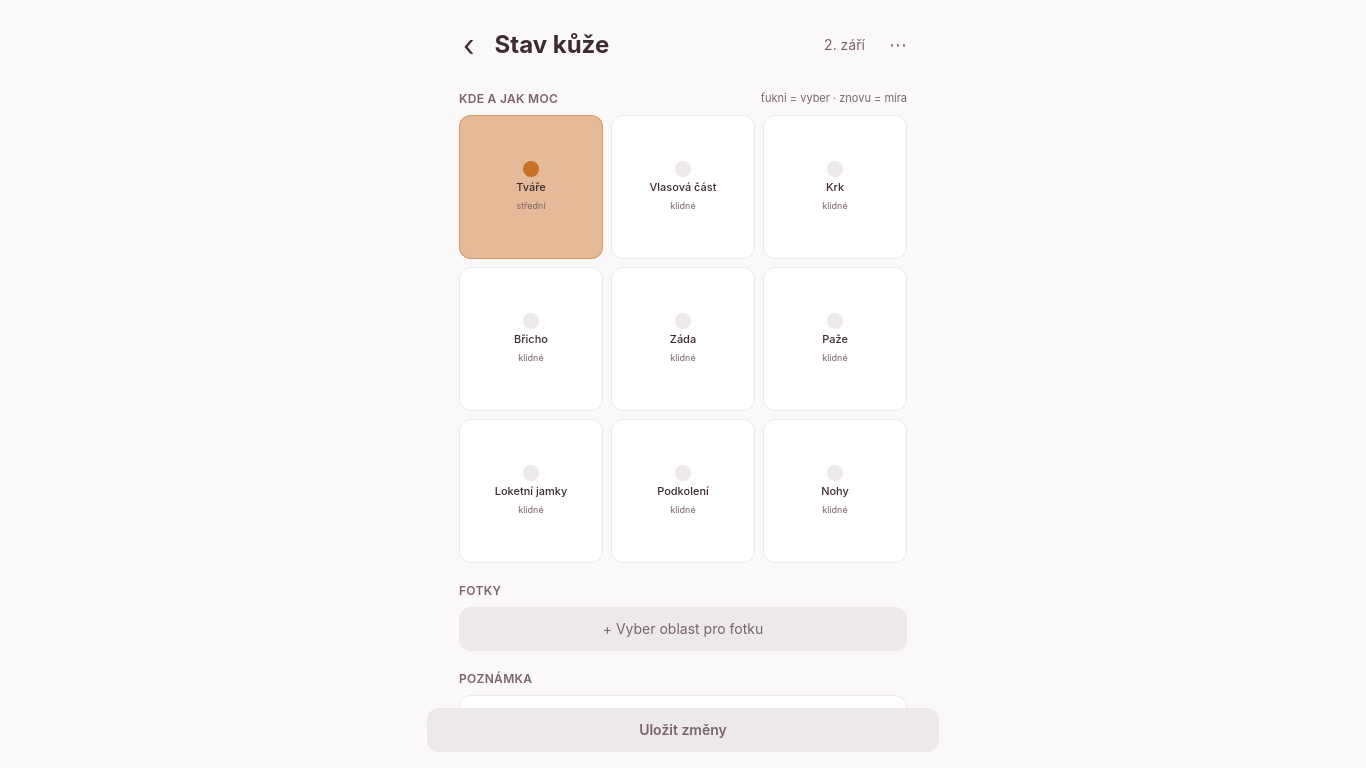
Test: skin/+page.svelte — region grid › cancelling the ConfirmSheet closes it with no navigation and no side effect
The image size is (1366, 768).
Check: the text box showing "itchy" is shown, box [459,694,907,762]
Click the button with test id "skin-overflow" at (898, 45), box [881,36,915,54]
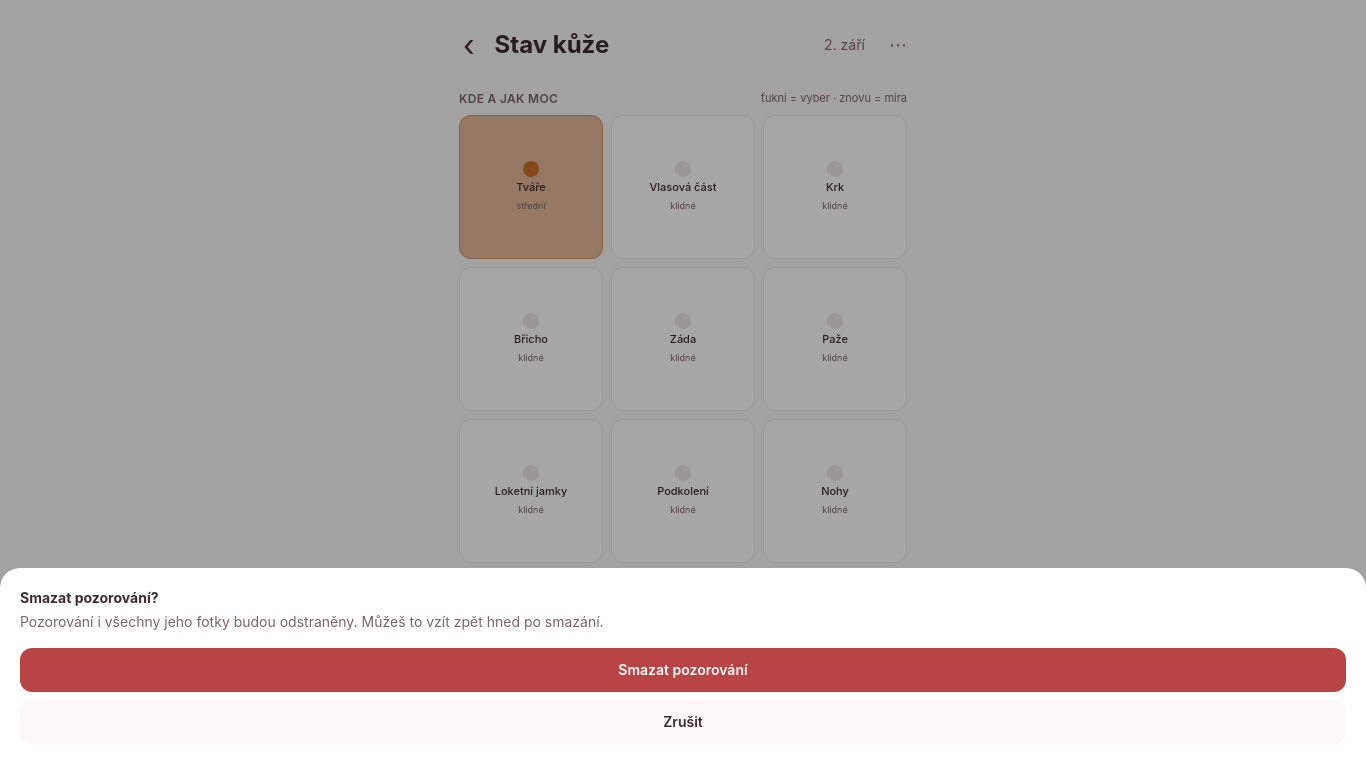
// Cancel via the visible Zrušit button.
Click the button "Zrušit" at (683, 722), box [20,700,1346,744]
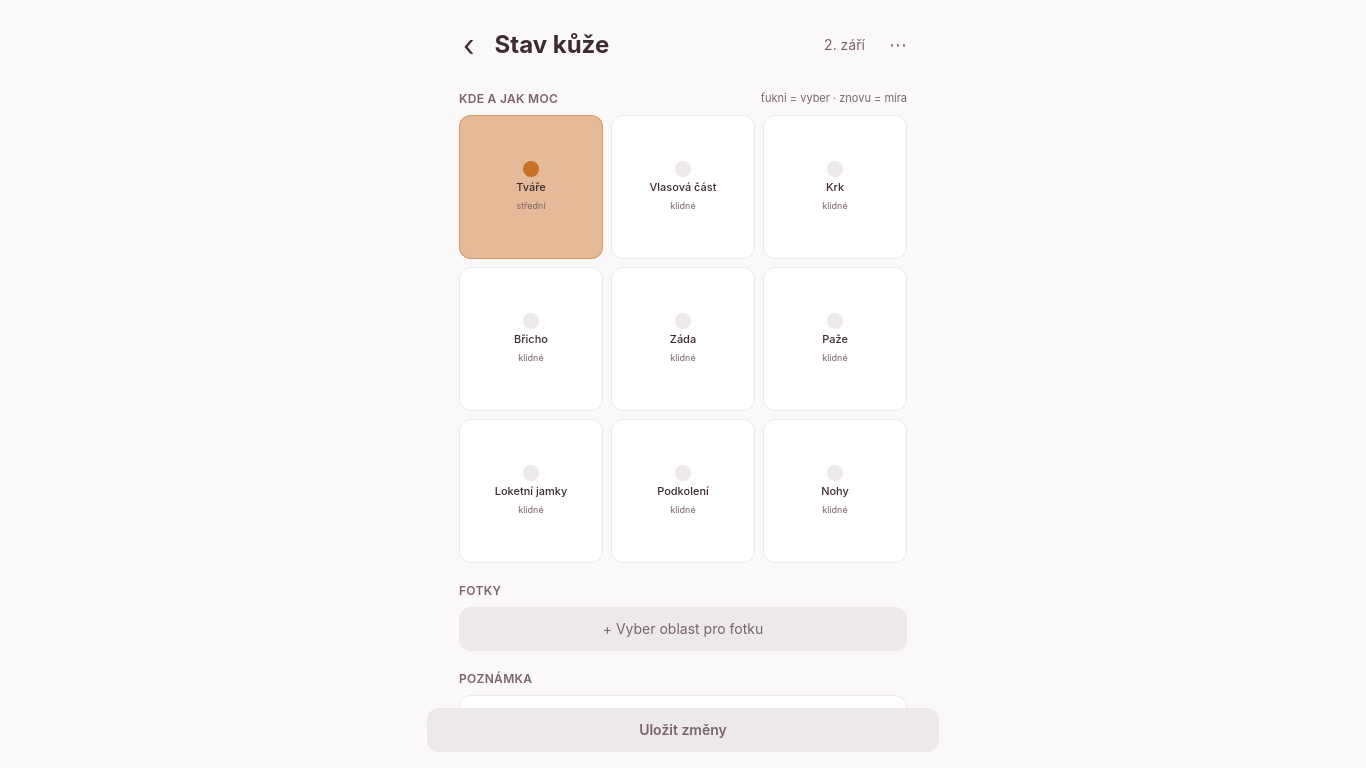
Check: the element with test id "confirm-sheet-backdrop" is gone
